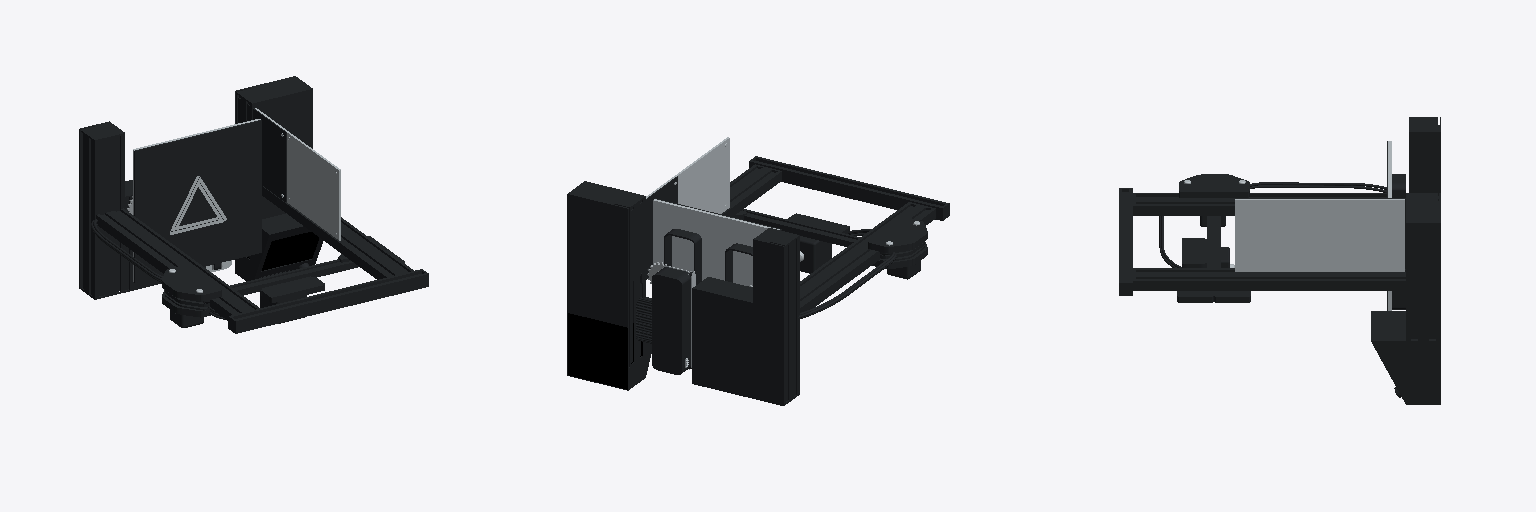
Rendered from 3d_printer.obj.
3 views of the same model, side by side, from view 1: azimuth 30°, elevation 25°; view 2: azimuth 150°, elevation 25°; view 3: azimuth 270°, elevation 25° (orthographic).
Visible parts, largest first — view 1: obj_0; view 2: obj_0; view 3: obj_0.
Part boxes in pixels (x1,y1,x2,y2): obj_0: (79,76,428,333); obj_0: (567,137,949,405); obj_0: (1119,117,1440,404).
Bounding box in the file's own units: 158 × 115 × 183.